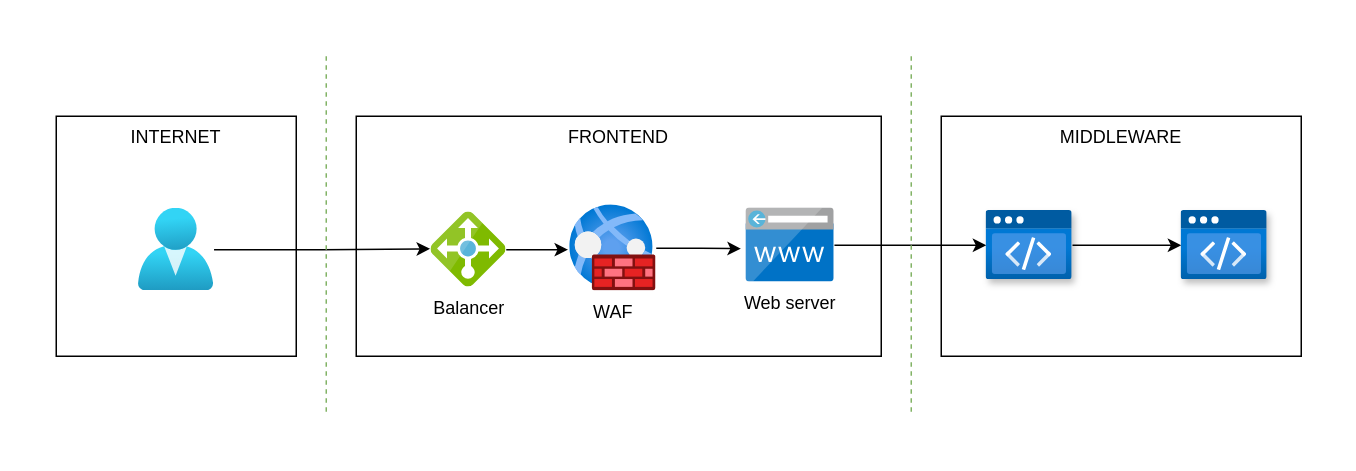
The diagram is 1356 pixels wide and 471 high, and some of its shapes have lost their labels. The shapes that lost their labels are listed below. From the top down, each one's centre as x and y in pixels, then its label:
At point (175, 249): "Client".
At point (1030, 247): "API Application".
At point (1225, 247): "Application".
